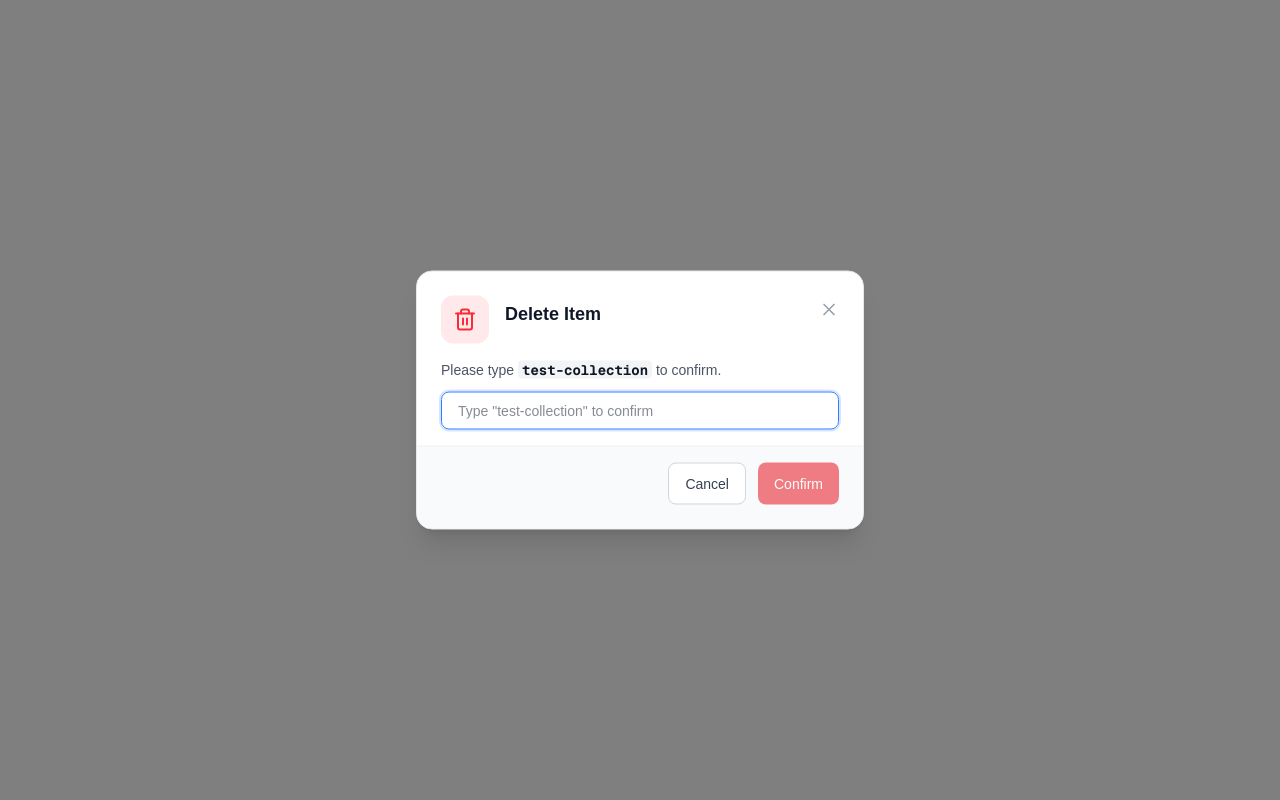
Test case: StrictConfirmDialog › enables confirm button when correct value is typed
Check: the button "Confirm" is disabled, box [758, 462, 839, 504]
Type "wrong-value" into the field with placeholder "Type \"test-collection\" to confirm" at [640, 410], box [441, 392, 839, 430]
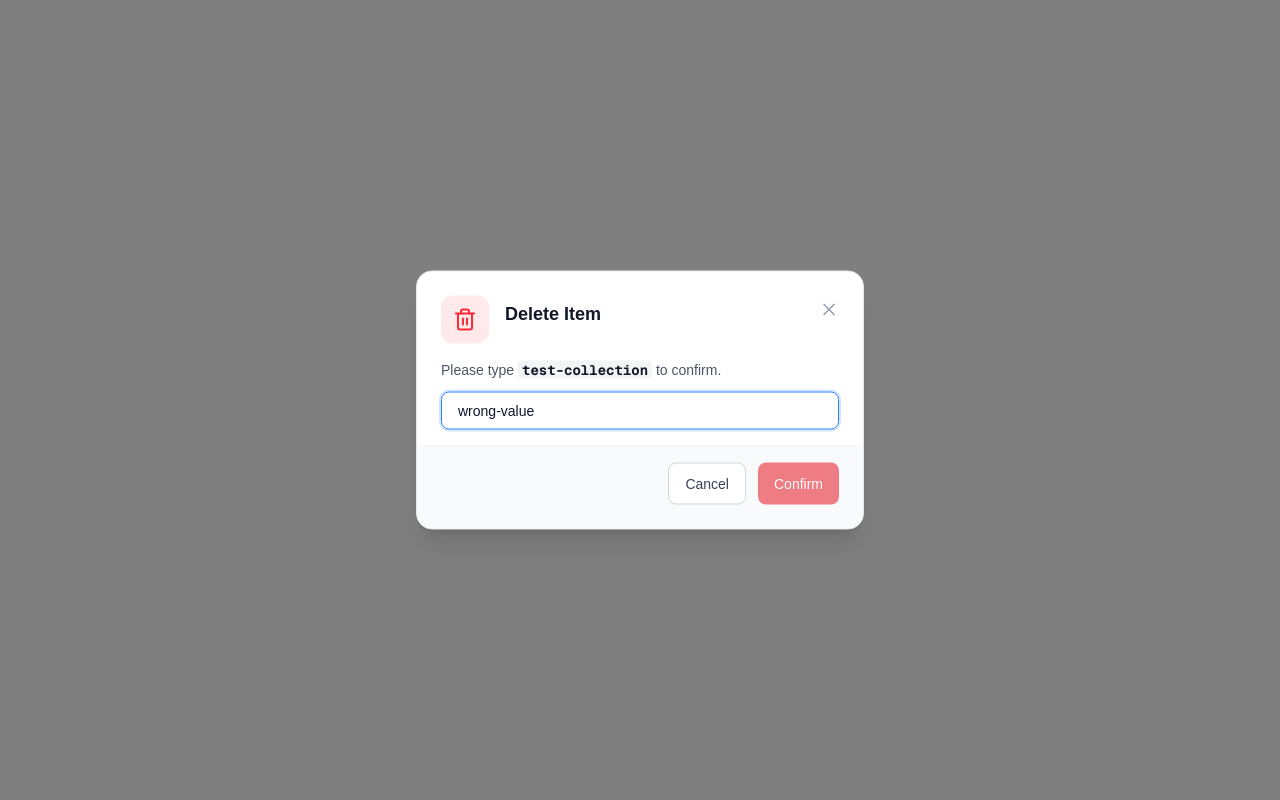
Check: the button "Confirm" is disabled, box [758, 462, 839, 504]
Replace the text in the field with placeholder "Type \"test-collection\" to confirm" with "test-collection" at [640, 410], box [441, 392, 839, 430]
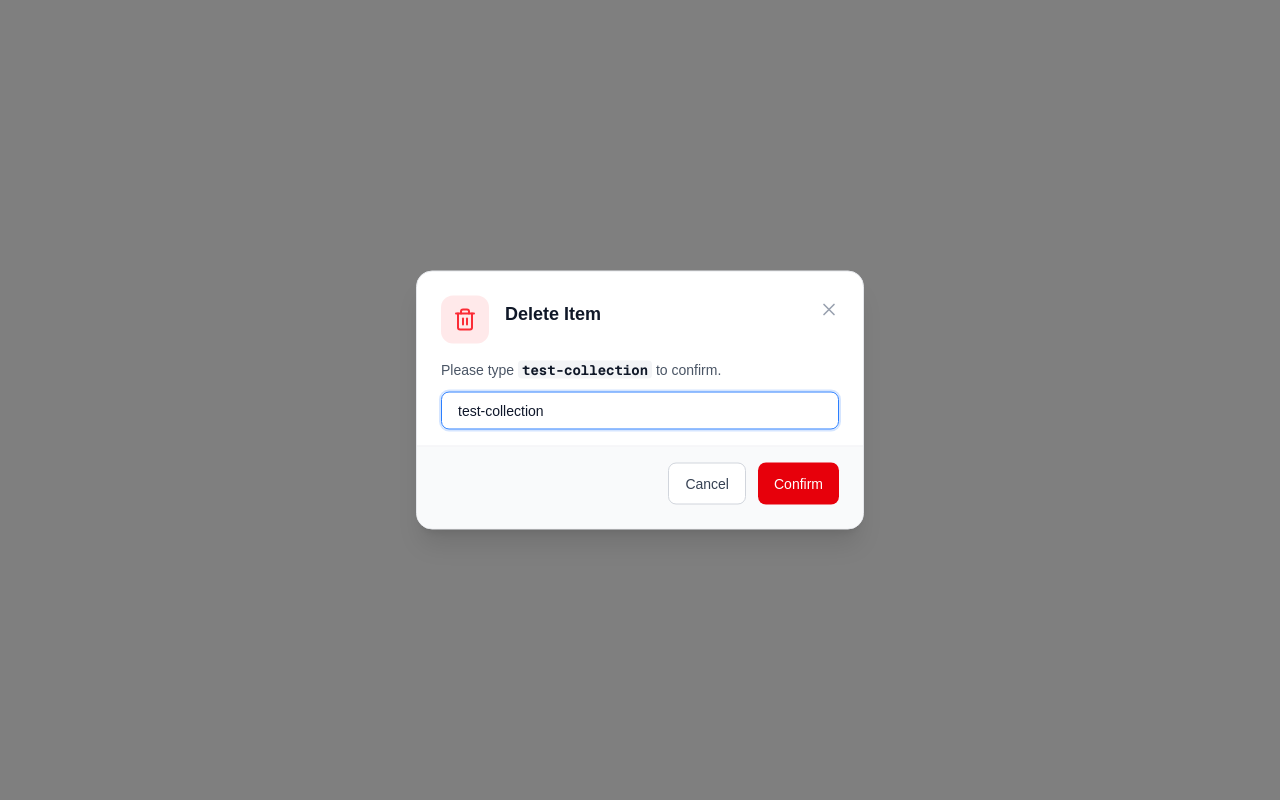
Check: the button "Confirm" is enabled, box [758, 462, 839, 504]
